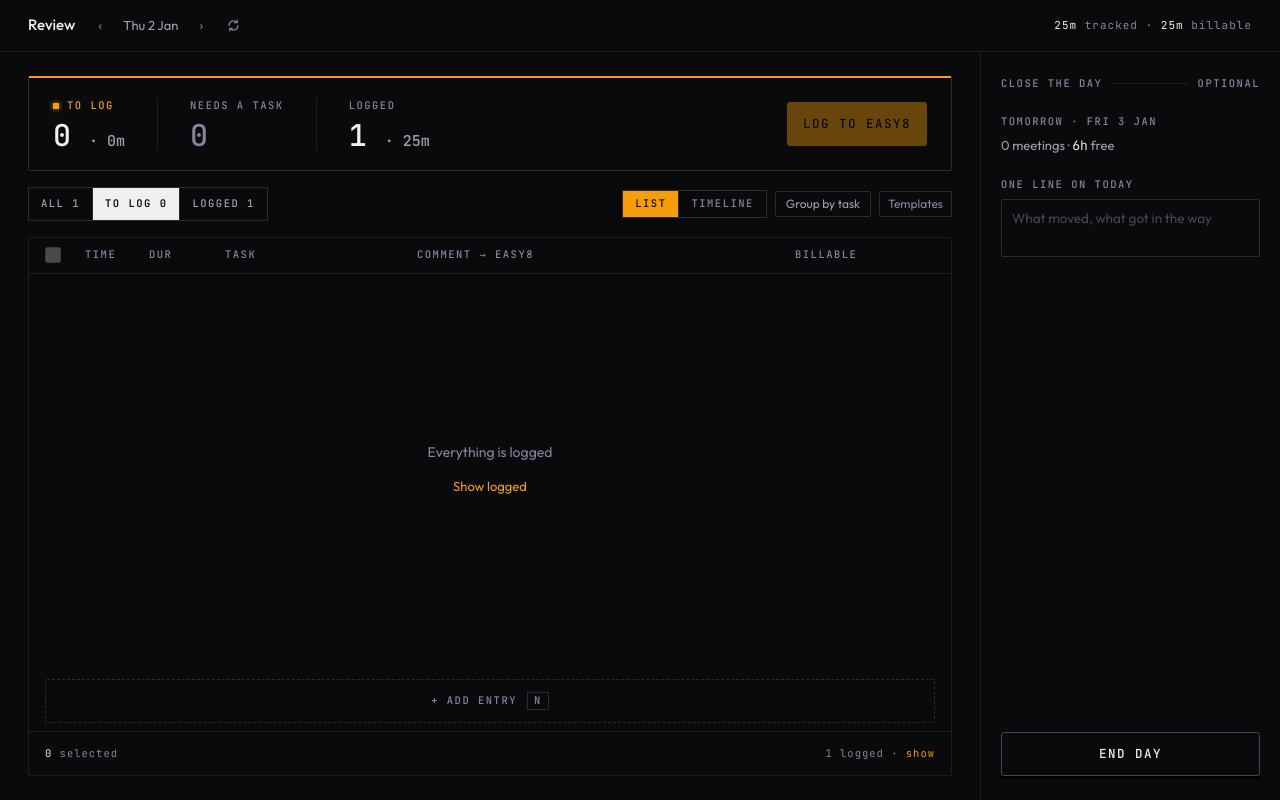
Scenario: DailyLog (Review) › with everything logged, To log shows `Everything is logged` and a way to see them
Expected: the text "Everything is logged" is shown, left=428, top=442, right=552, bottom=463
Expected: the element with test id "entries-footer" shows "1 logged · show", left=29, top=731, right=951, bottom=775
Click the button "Show logged" at [490, 487], box left=441, top=471, right=539, bottom=503
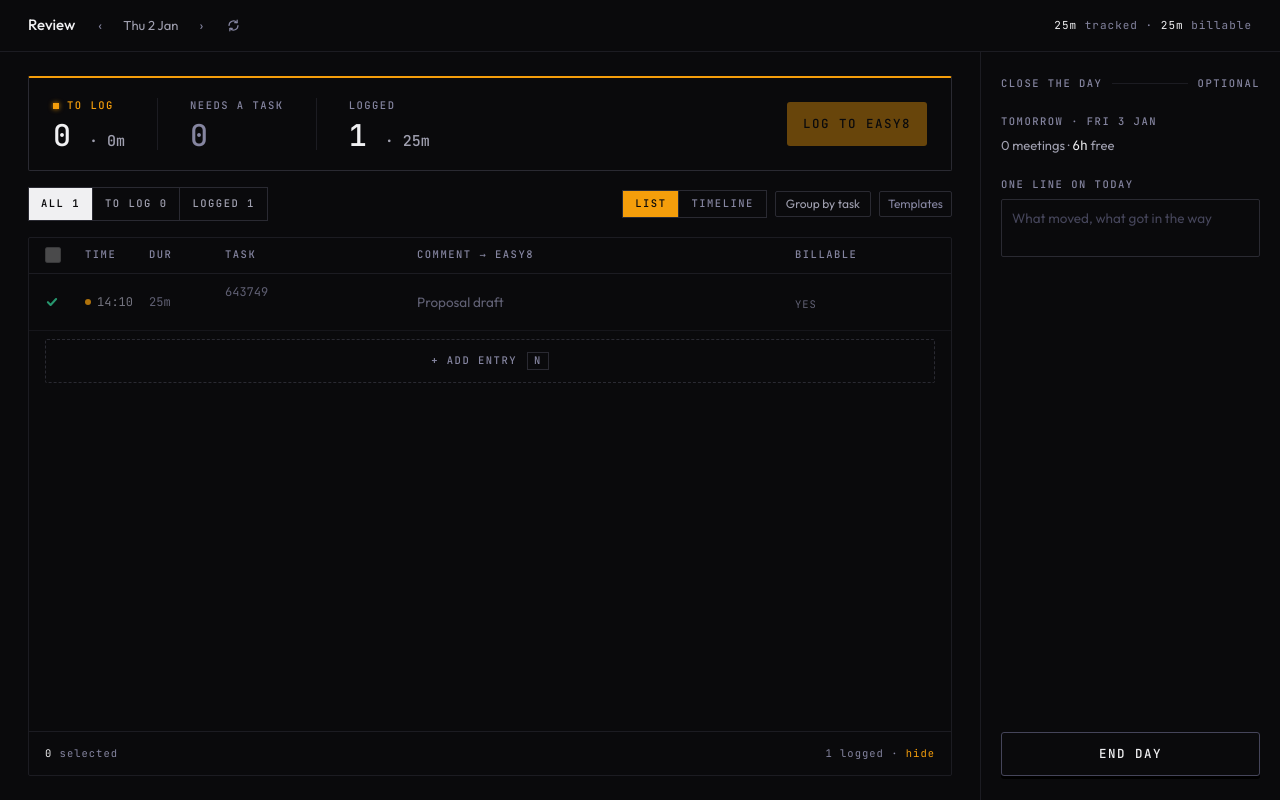
Expected: the number of elements with test id "entry-row" is 1, left=29, top=274, right=951, bottom=331
